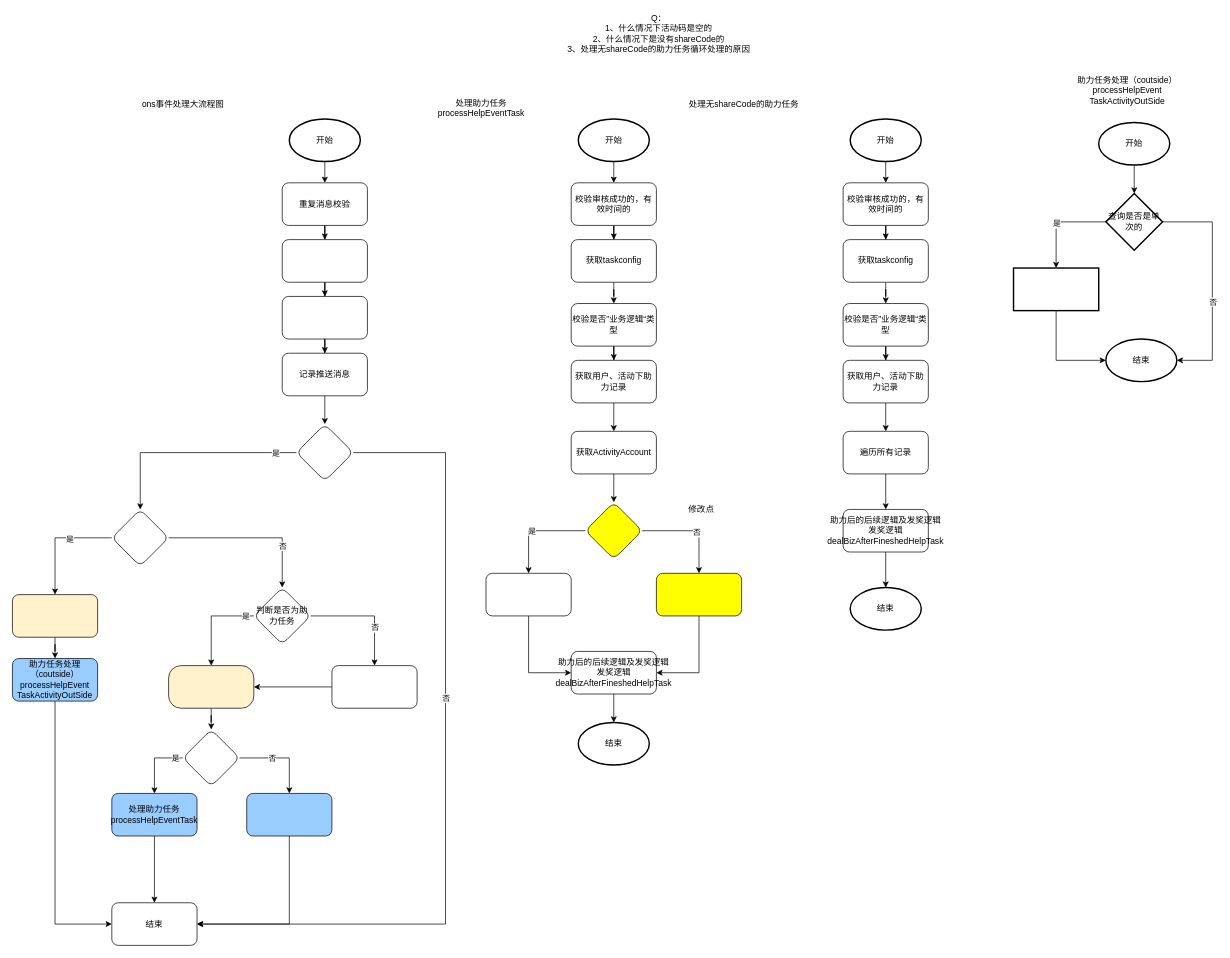
Some shapes in this 1230 by 958 pixel diagram are drawn without their labels. The shapes that lost their labels are listed below. From the top down, each one's centre as x and y in pixels, then its label:
At point 324,260: "遍历主账号".
At point 1055,289: "更新该用户、活动下的记录 PROGRESS->NO_CHANCE".
At point 324,317: "获取活动业务逻辑code，并遍历".
At point 324,452: "校验数据是否符合完成任务的标准".
At point 140,537: "活动码是否为空（compaignNo）".
At point 613,530: "助力记录为空，或助力记录全为成功".
At point 528,594: "新增一条助力记录".
At point 699,594: "取助力状态为PROGRESS且创建时间最大的一条记录".
At point 55,615: "普通任务处理（outSide） processBusiEvent TaskActivityOutSide".
At point 211,686: "查询普通任务，更新，发奖 processBusiEventTask（大逻辑）".
At point 374,686: "shareCode设置为null".
At point 211,757: "shareCode不为空 或 邀请人accountId不为空".
At point 289,814: "处理无shareCode的助力任务 processHelpEvent TaskWithoutShareCode".
